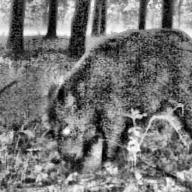boar: (31, 14, 192, 172)
